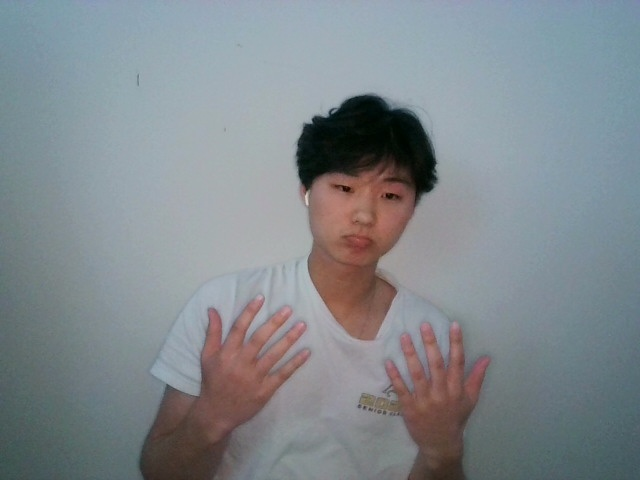sad: (193, 282, 536, 458)
